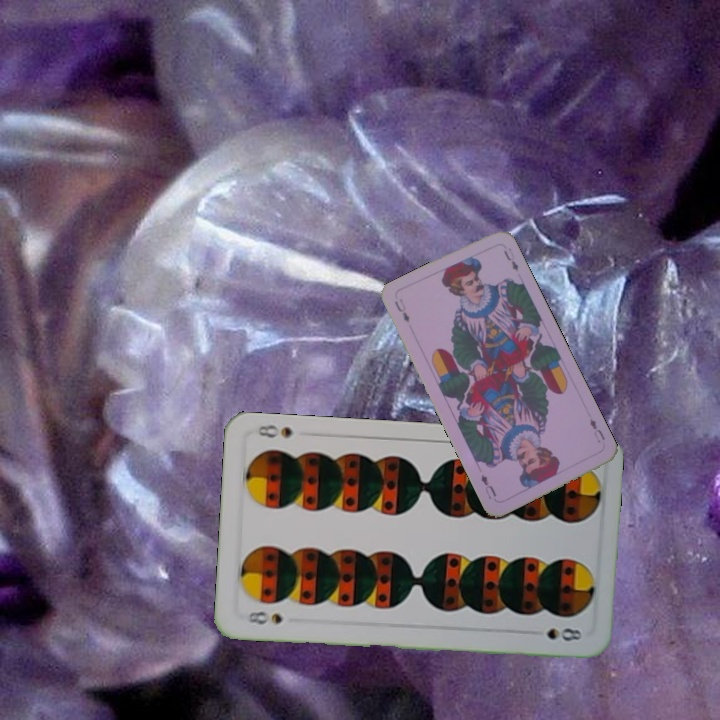EU: (585, 414, 608, 445), (390, 294, 412, 326)
S8: (238, 607, 285, 627)
